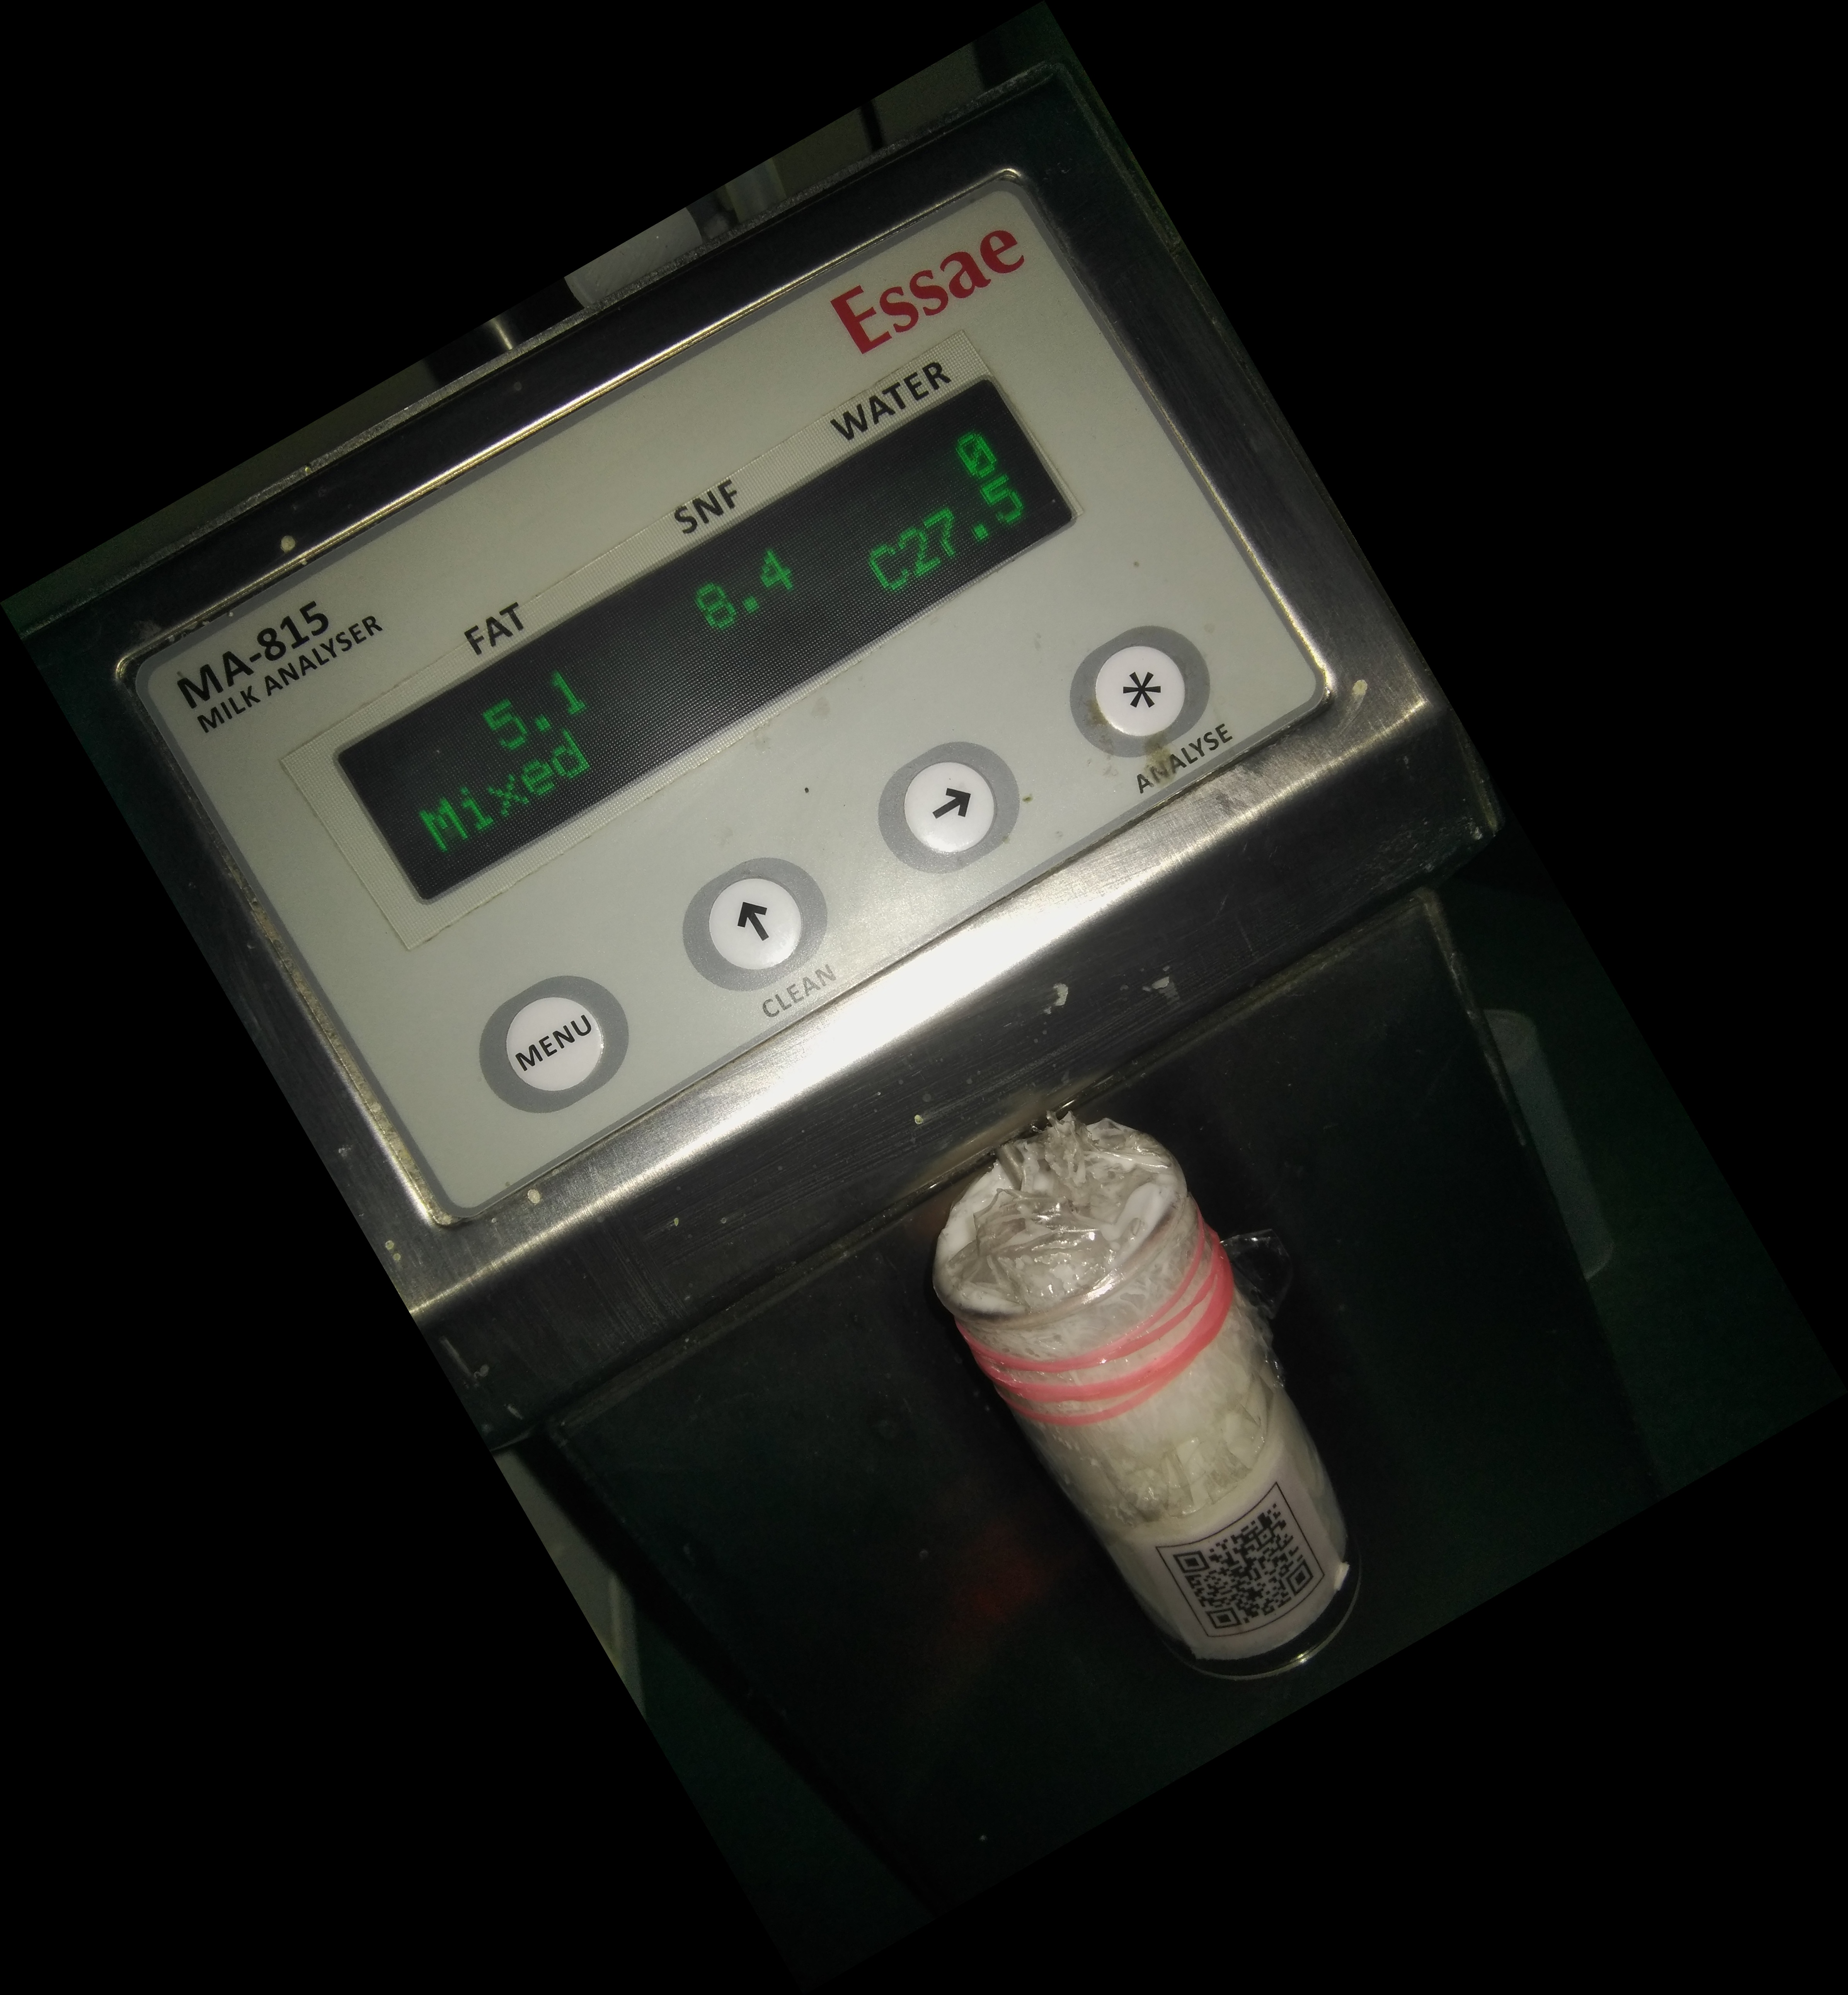lcd: (309, 367, 1090, 923)
qr: (1154, 1467, 1351, 1680)
